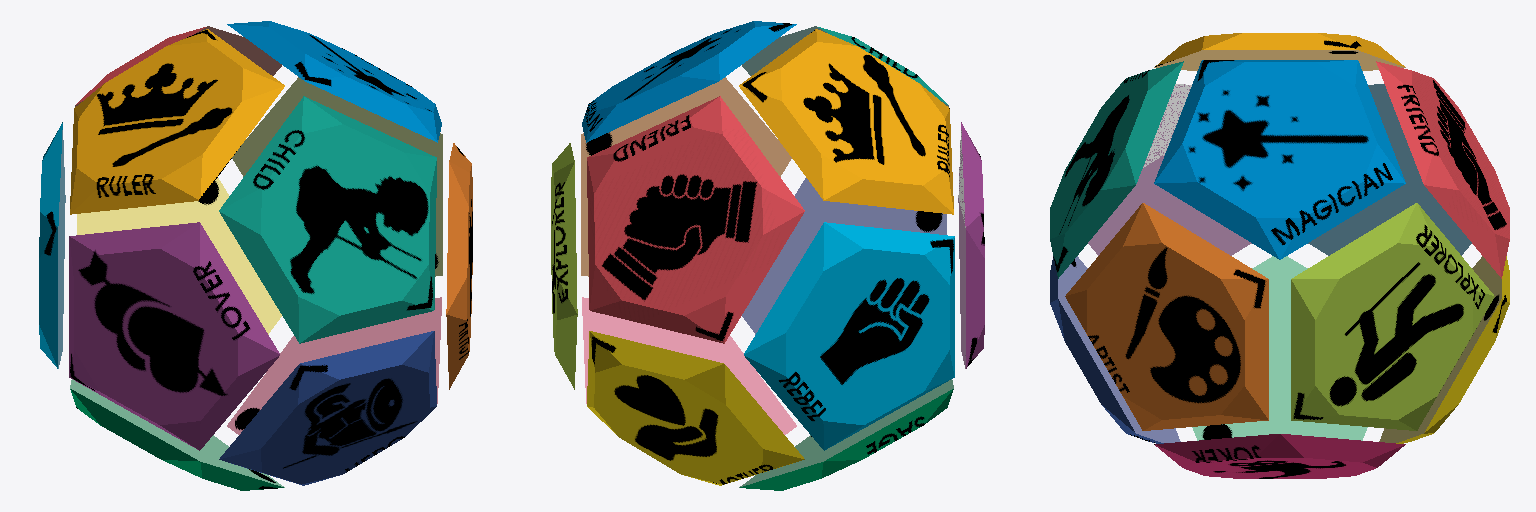
3 renders of one model, left to right at view 1: azimuth 30°, elevation 25°; view 2: azimuth 150°, elevation 25°; view 3: azimuth 270°, elevation 25°, orthographic.
Parts seen in each view (by area): view 1: dodecahedron1; view 2: dodecahedron1; view 3: dodecahedron1.
Part boxes in pixels (x1,y1,x2,y2): dodecahedron1: (39, 21, 472, 490); dodecahedron1: (551, 21, 984, 490); dodecahedron1: (1050, 33, 1509, 478).
Size of the model in its own units: 1.15 by 1.15 by 1.15.
1 materials, 1 textured.